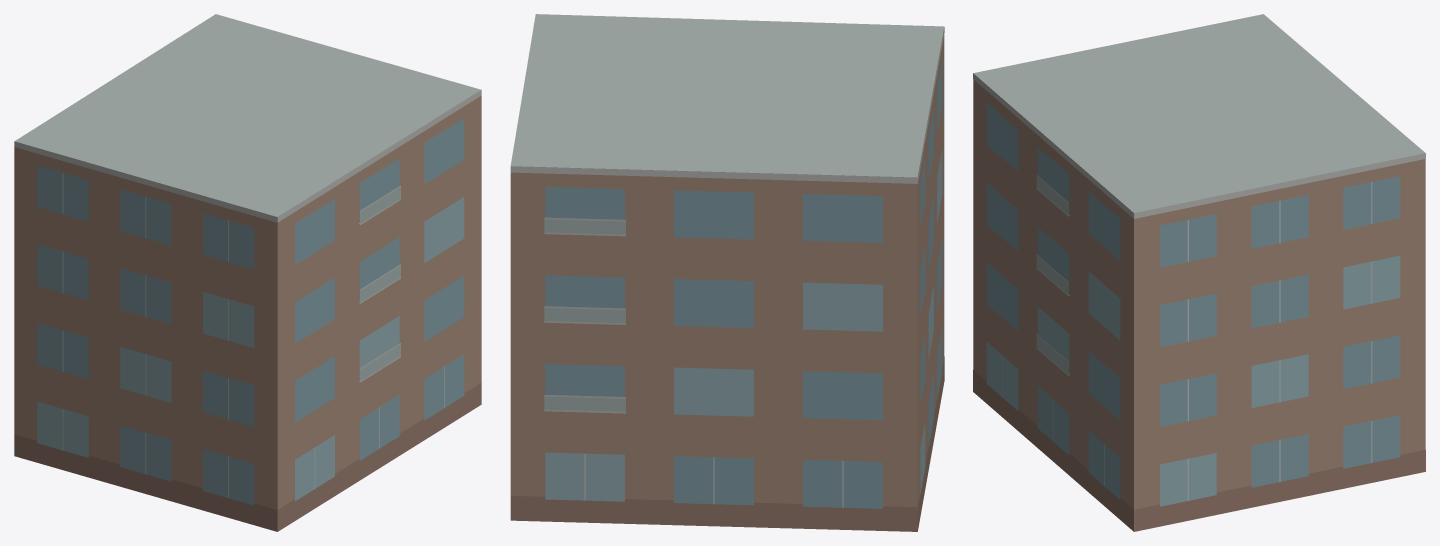
File: survey-upis-32732704.glb
The picture shows the model from 3 angles, left to right: view 1: azimuth 30°, elevation 25°; view 2: azimuth 150°, elevation 25°; view 3: azimuth 270°, elevation 25°; orthographic projection. The views are drawn at different scales.
Parts seen in each view (by area): view 1: survey-upis-32732704.tmp; view 2: survey-upis-32732704.tmp; view 3: survey-upis-32732704.tmp.
Boxes of the visible parts, x1,y1,x2,y2 form: survey-upis-32732704.tmp: (14,14,481,531); survey-upis-32732704.tmp: (510,14,944,531); survey-upis-32732704.tmp: (973,14,1425,531).
Size of the model in its own units: 18.11 by 13.5 by 17.39.
